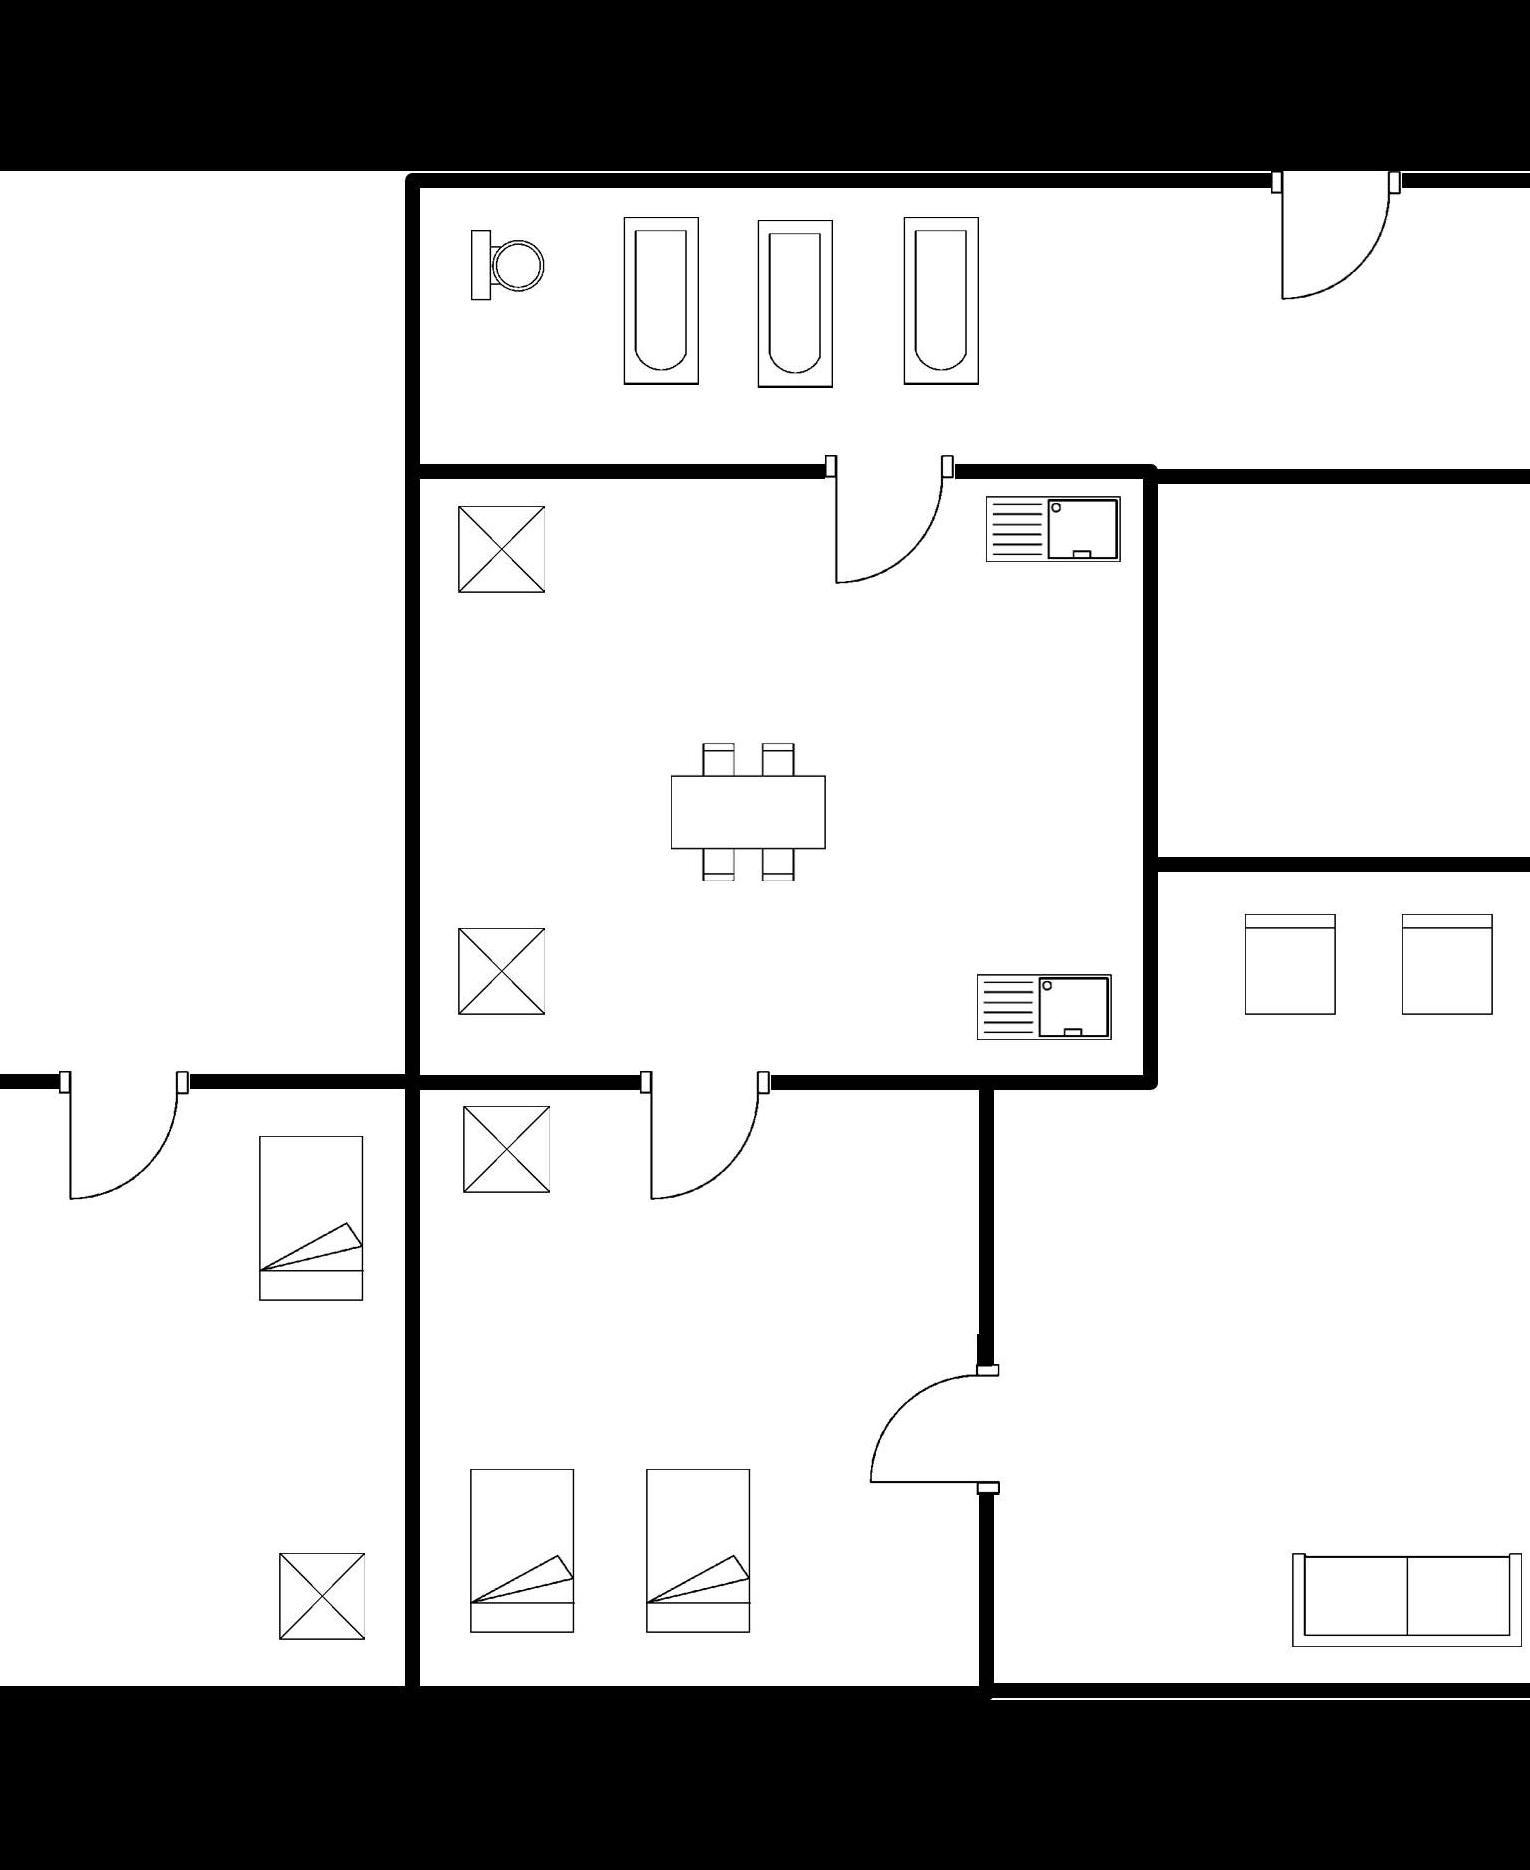bed: (631, 1452, 767, 1648), (247, 1117, 370, 1314), (463, 1451, 581, 1645)
dining_table: (649, 728, 843, 898)
sink: (961, 954, 1125, 1056), (975, 481, 1132, 579)
sofa: (1281, 1539, 1530, 1660)
toilet: (452, 219, 548, 318)
tub: (741, 203, 845, 402), (609, 205, 710, 399), (890, 207, 989, 398)
